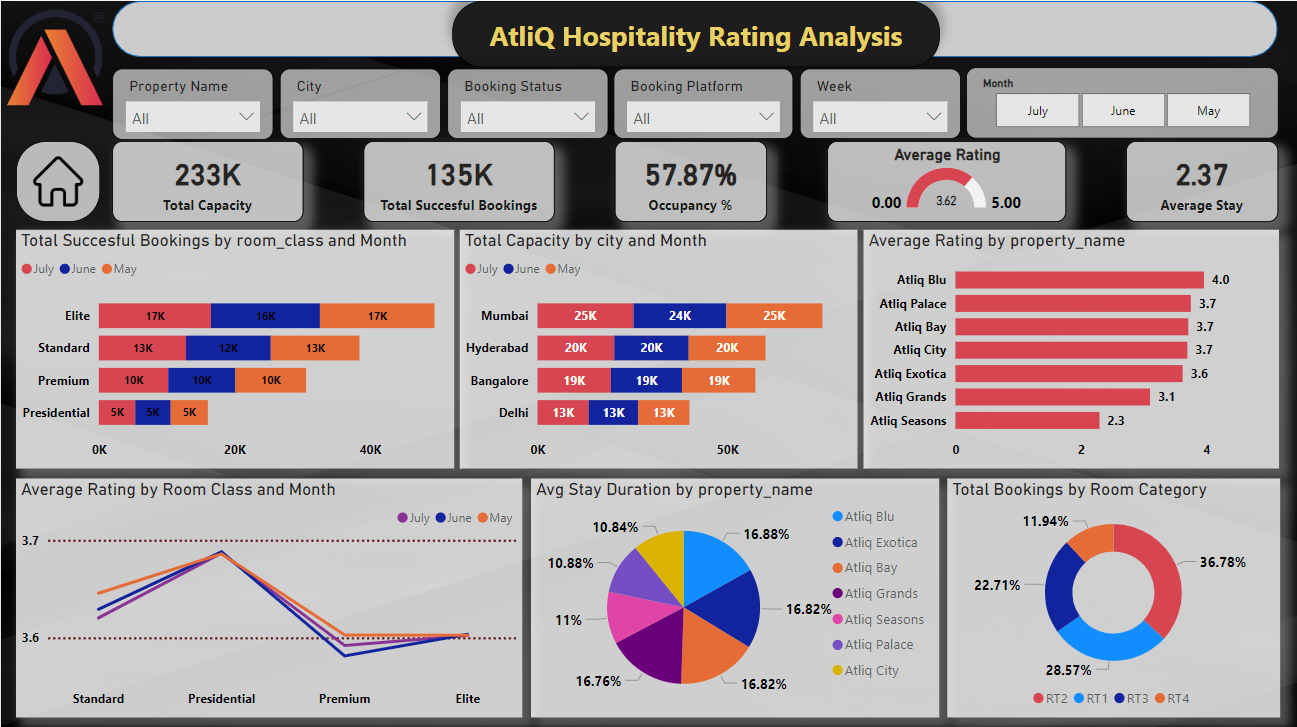

What the dashboard file says about the page in this screenshot:
{"tool":"powerbi","page":{"name":"Rating Analysis","canvas":[1280,720],"ordinal":4},"visuals":[{"type":"shape","box":[110.4,0,1150.9,55.2],"z":0},{"type":"image","box":[0,0,110,110],"z":1000},{"type":"slicer","fields":{"Values":["dim_hotels.property_name"]},"box":[110.4,66.3,159.5,70],"z":2000},{"type":"slicer","fields":{"Values":["dim_hotels.city"]},"box":[275.3,66.3,159.5,69.9],"z":3000},{"type":"slicer","fields":{"Values":["fact_bookings.booking_status"]},"box":[440.2,66.3,159.5,69.9],"z":4000},{"type":"slicer","fields":{"Values":["fact_bookings.booking_platform"]},"box":[605.2,66.3,177.9,69.9],"z":5000},{"type":"slicer","fields":{"Values":["dim_date.Week"]},"box":[788.5,66.3,159.5,69.9],"z":6000},{"type":"slicer","fields":{"Values":["dim_date.Month"]},"box":[952.9,65.7,308.6,70],"z":7000},{"type":"card","fields":{"Values":["Key Measure.Avg Stay Duration"]},"box":[1111.4,138.6,150,80],"z":8000},{"type":"image","box":[14.3,138.6,82.9,80],"z":9000},{"type":"barChart","fields":{"Category":["dim_rooms.room_class"],"Y":["Key Measure.Total Succesful Bookings"],"Series":["dim_date.Month"]},"box":[14.3,225.7,432.9,235.7],"z":11000},{"type":"clusteredBarChart","fields":{"Y":["Key Measure.Average Rating"],"Category":["dim_hotels.property_name"]},"box":[851.4,225.7,410,235.7],"z":12000},{"type":"lineChart","fields":{"Y":["Key Measure.Average Rating"],"Category":["dim_rooms.room_class"],"Series":["dim_date.Month"]},"box":[14.3,471.4,500,235.7],"z":13000},{"type":"donutChart","fields":{"Y":["Key Measure.Total Bookings"],"Category":["dim_rooms.room_id"]},"box":[934.3,471.4,328.6,235.7],"z":14000},{"type":"card","fields":{"Values":["Key Measure.Total Capacity"]},"box":[110,138.6,188.6,80],"z":15000},{"type":"card","fields":{"Values":["Key Measure.Total Succesful Bookings"]},"box":[358.2,138.6,188.6,80],"z":16000},{"type":"card","fields":{"Values":["Key Measure.Occupancy %"]},"box":[606.4,138.6,150,80],"z":17000},{"type":"barChart","fields":{"Category":["dim_hotels.city"],"Series":["dim_date.Month"],"Y":["Key Measure.Total Capacity"]},"box":[452.9,225.7,392.9,235.7],"z":18000},{"type":"gauge","fields":{"Y":["Key Measure.Average Rating"]},"box":[816.1,138.6,235.7,80],"z":19000},{"type":"pieChart","fields":{"Y":["Key Measure.Avg Stay Duration"],"Category":["dim_hotels.property_name"]},"box":[522.9,471.4,402.9,235.7],"z":19001},{"type":"textbox","box":[445.7,0,481.4,65.7],"z":19002}]}

Visuals, with their boxes in screenshot pixels (x1, y1, x2, y2), scaled from the page's 1280x720 canvas onto the 1297x727 screenshot:
shape: {"left": 112, "top": 0, "right": 1278, "bottom": 56}
image: {"left": 0, "top": 0, "right": 111, "bottom": 111}
slicer - dim_hotels.property_name: {"left": 112, "top": 67, "right": 273, "bottom": 138}
slicer - dim_hotels.city: {"left": 279, "top": 67, "right": 441, "bottom": 138}
slicer - fact_bookings.booking_status: {"left": 446, "top": 67, "right": 608, "bottom": 138}
slicer - fact_bookings.booking_platform: {"left": 613, "top": 67, "right": 794, "bottom": 138}
slicer - dim_date.Week: {"left": 799, "top": 67, "right": 961, "bottom": 138}
slicer - dim_date.Month: {"left": 966, "top": 66, "right": 1278, "bottom": 137}
card - Key Measure.Avg Stay Duration: {"left": 1126, "top": 140, "right": 1278, "bottom": 221}
image: {"left": 14, "top": 140, "right": 98, "bottom": 221}
barChart - dim_rooms.room_class x Key Measure.Total Succesful Bookings: {"left": 14, "top": 228, "right": 453, "bottom": 466}
clusteredBarChart - Key Measure.Average Rating x dim_hotels.property_name: {"left": 863, "top": 228, "right": 1278, "bottom": 466}
lineChart - Key Measure.Average Rating x dim_rooms.room_class: {"left": 14, "top": 476, "right": 521, "bottom": 714}
donutChart - Key Measure.Total Bookings x dim_rooms.room_id: {"left": 947, "top": 476, "right": 1280, "bottom": 714}
card - Key Measure.Total Capacity: {"left": 111, "top": 140, "right": 303, "bottom": 221}
card - Key Measure.Total Succesful Bookings: {"left": 363, "top": 140, "right": 554, "bottom": 221}
card - Key Measure.Occupancy %: {"left": 614, "top": 140, "right": 766, "bottom": 221}
barChart - dim_hotels.city x dim_date.Month: {"left": 459, "top": 228, "right": 857, "bottom": 466}
gauge - Key Measure.Average Rating: {"left": 827, "top": 140, "right": 1066, "bottom": 221}
pieChart - Key Measure.Avg Stay Duration x dim_hotels.property_name: {"left": 530, "top": 476, "right": 938, "bottom": 714}
textbox: {"left": 452, "top": 0, "right": 939, "bottom": 66}
